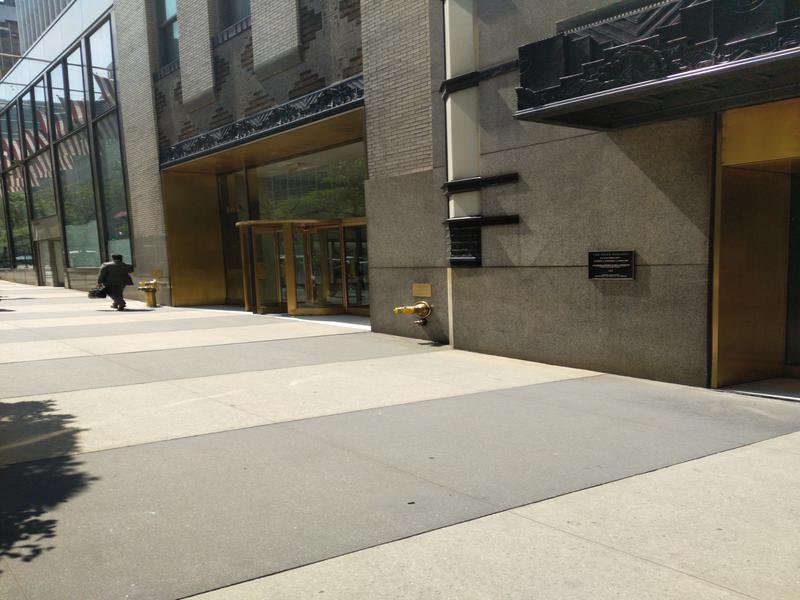revolving_door: (238, 215, 351, 317)
